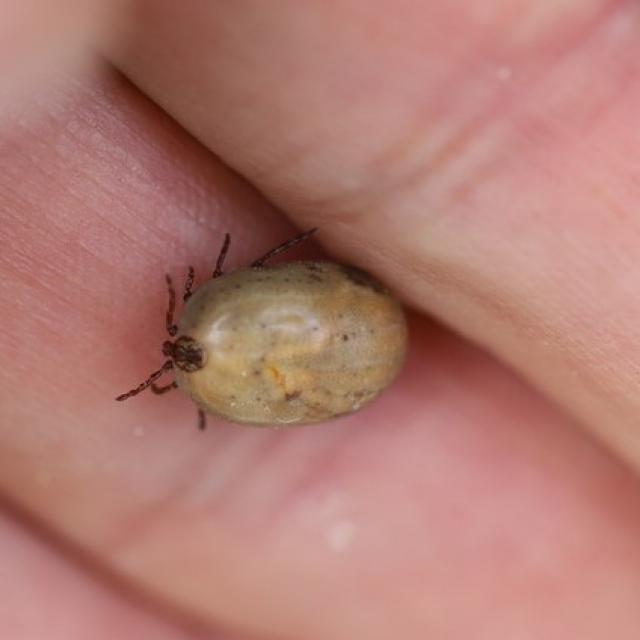Dermacentor Reticulatus-F-Fed: (118, 227, 411, 433)
